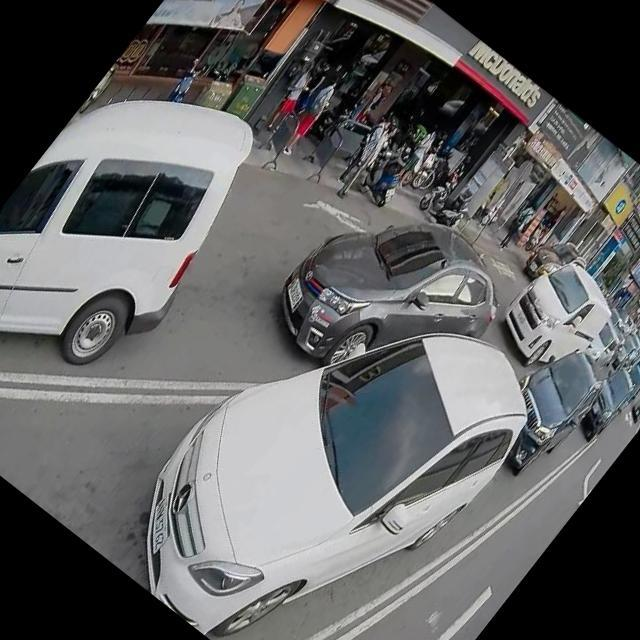person: (271, 64, 352, 159), (330, 116, 400, 198), (256, 59, 324, 140), (390, 123, 446, 189), (494, 202, 536, 250), (352, 80, 392, 127)
